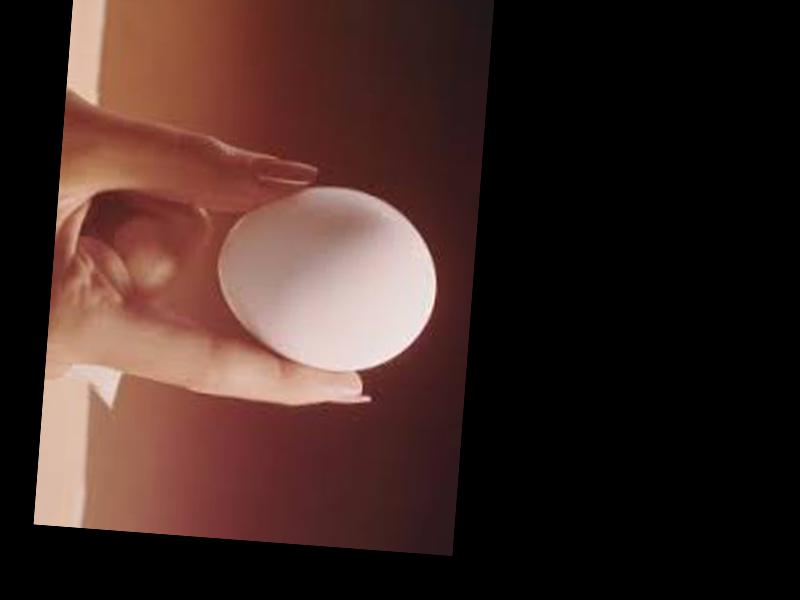Eggs: (209, 177, 444, 380)
